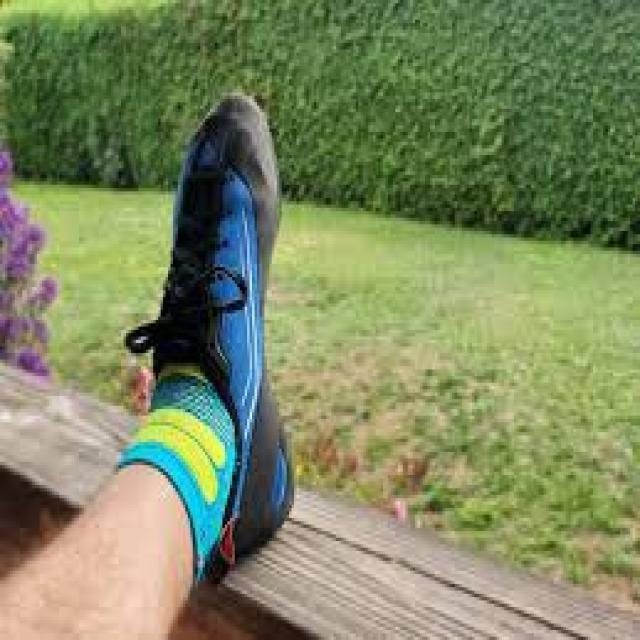climbing-shoes: (154, 91, 298, 547)
